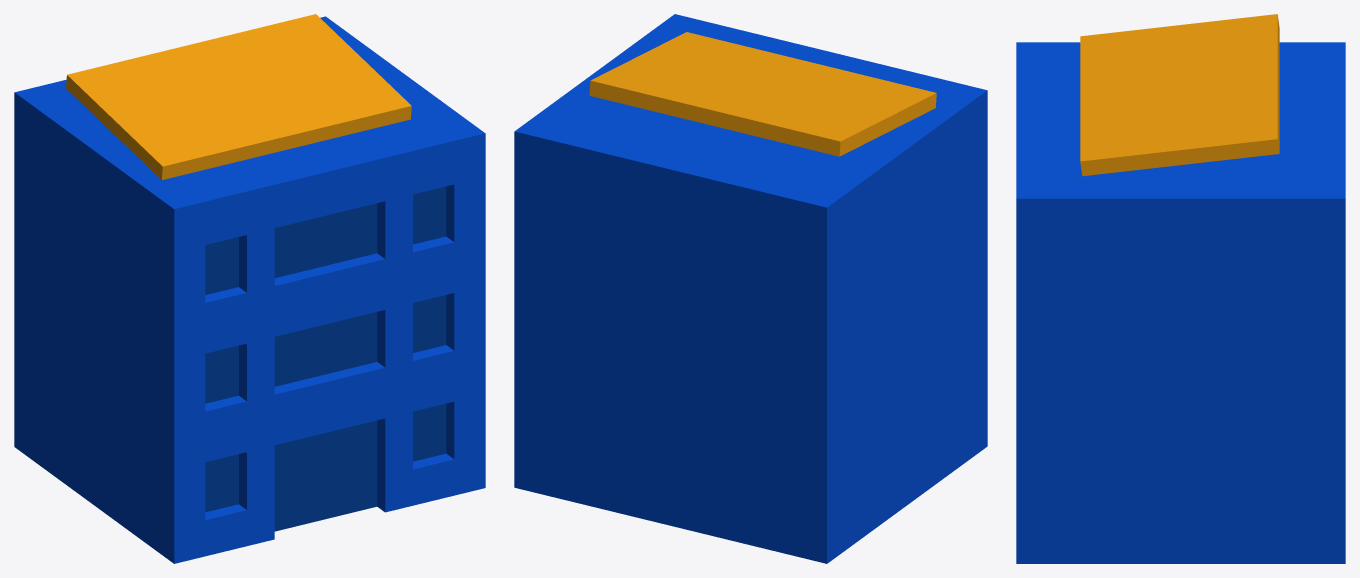
The model's file is binaacilacak2.gltf.
3 views of the same model, side by side, from view 1: azimuth 30°, elevation 25°; view 2: azimuth 150°, elevation 25°; view 3: azimuth 270°, elevation 25° (orthographic). The views are drawn at different scales.
Parts seen in each view (by area): view 1: Building_024.022, Building_024_RoofCap_0.003, Building_024.023, Building_024.024; view 2: Building_024.022, Building_024_RoofCap_0.003; view 3: Building_024.022, Building_024_RoofCap_0.003.
Boxes of the visible parts, bbox=[...] form: Building_024.022: bbox=[14, 16, 485, 563]; Building_024_RoofCap_0.003: bbox=[66, 14, 411, 179]; Building_024.023: bbox=[205, 186, 446, 512]; Building_024.024: bbox=[274, 420, 377, 531]; Building_024.022: bbox=[514, 14, 987, 563]; Building_024_RoofCap_0.003: bbox=[589, 32, 936, 156]; Building_024.022: bbox=[1016, 42, 1345, 563]; Building_024_RoofCap_0.003: bbox=[1080, 14, 1279, 176].
Bounding box in the file's own units: 0.0489 × 0.0588 × 0.0435.
